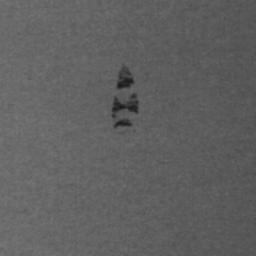Secondary rust skin: (111, 92, 140, 130), (115, 63, 136, 91)
